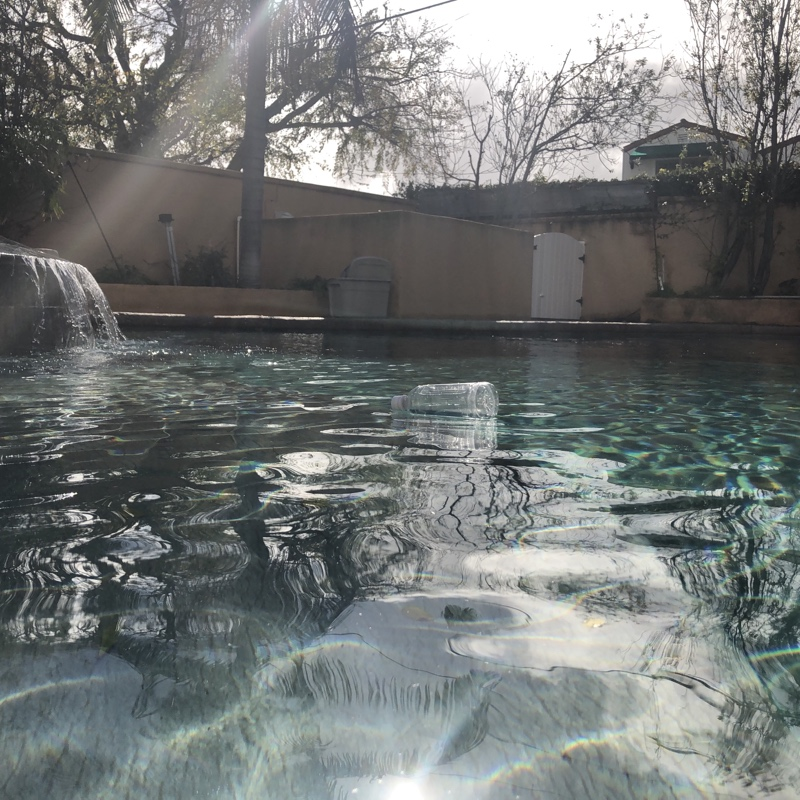Plastic Bottle: (386, 380, 508, 430)
